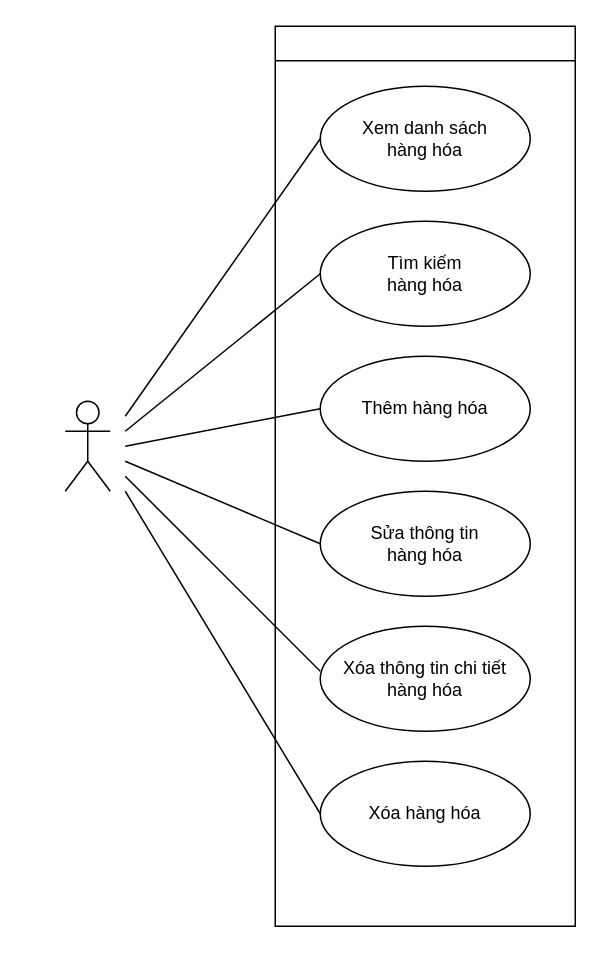
The diagram is 602 pixels wide and 953 high, and some of its shapes have lost their labels. Each missing label, with the box of its shape:
Chủ cửa hàng / Nhân viên: (64, 400, 110, 491)
Use case quản lý hàng hóa: (274, 25, 575, 926)
